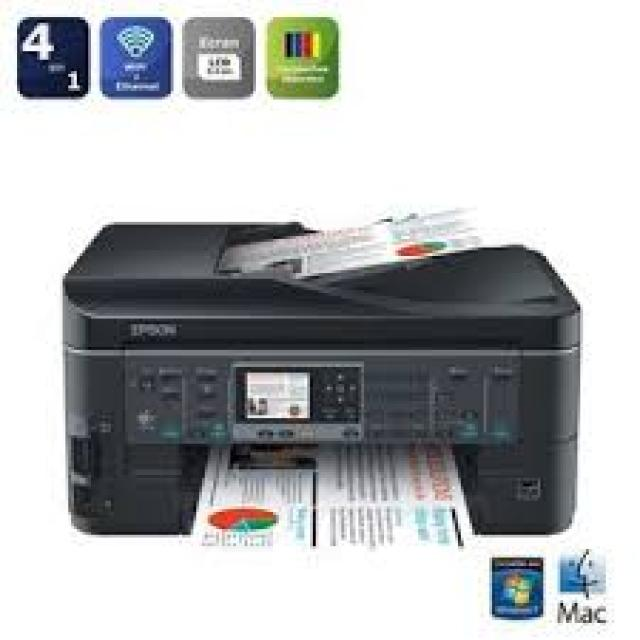printer: (60, 214, 580, 540)
